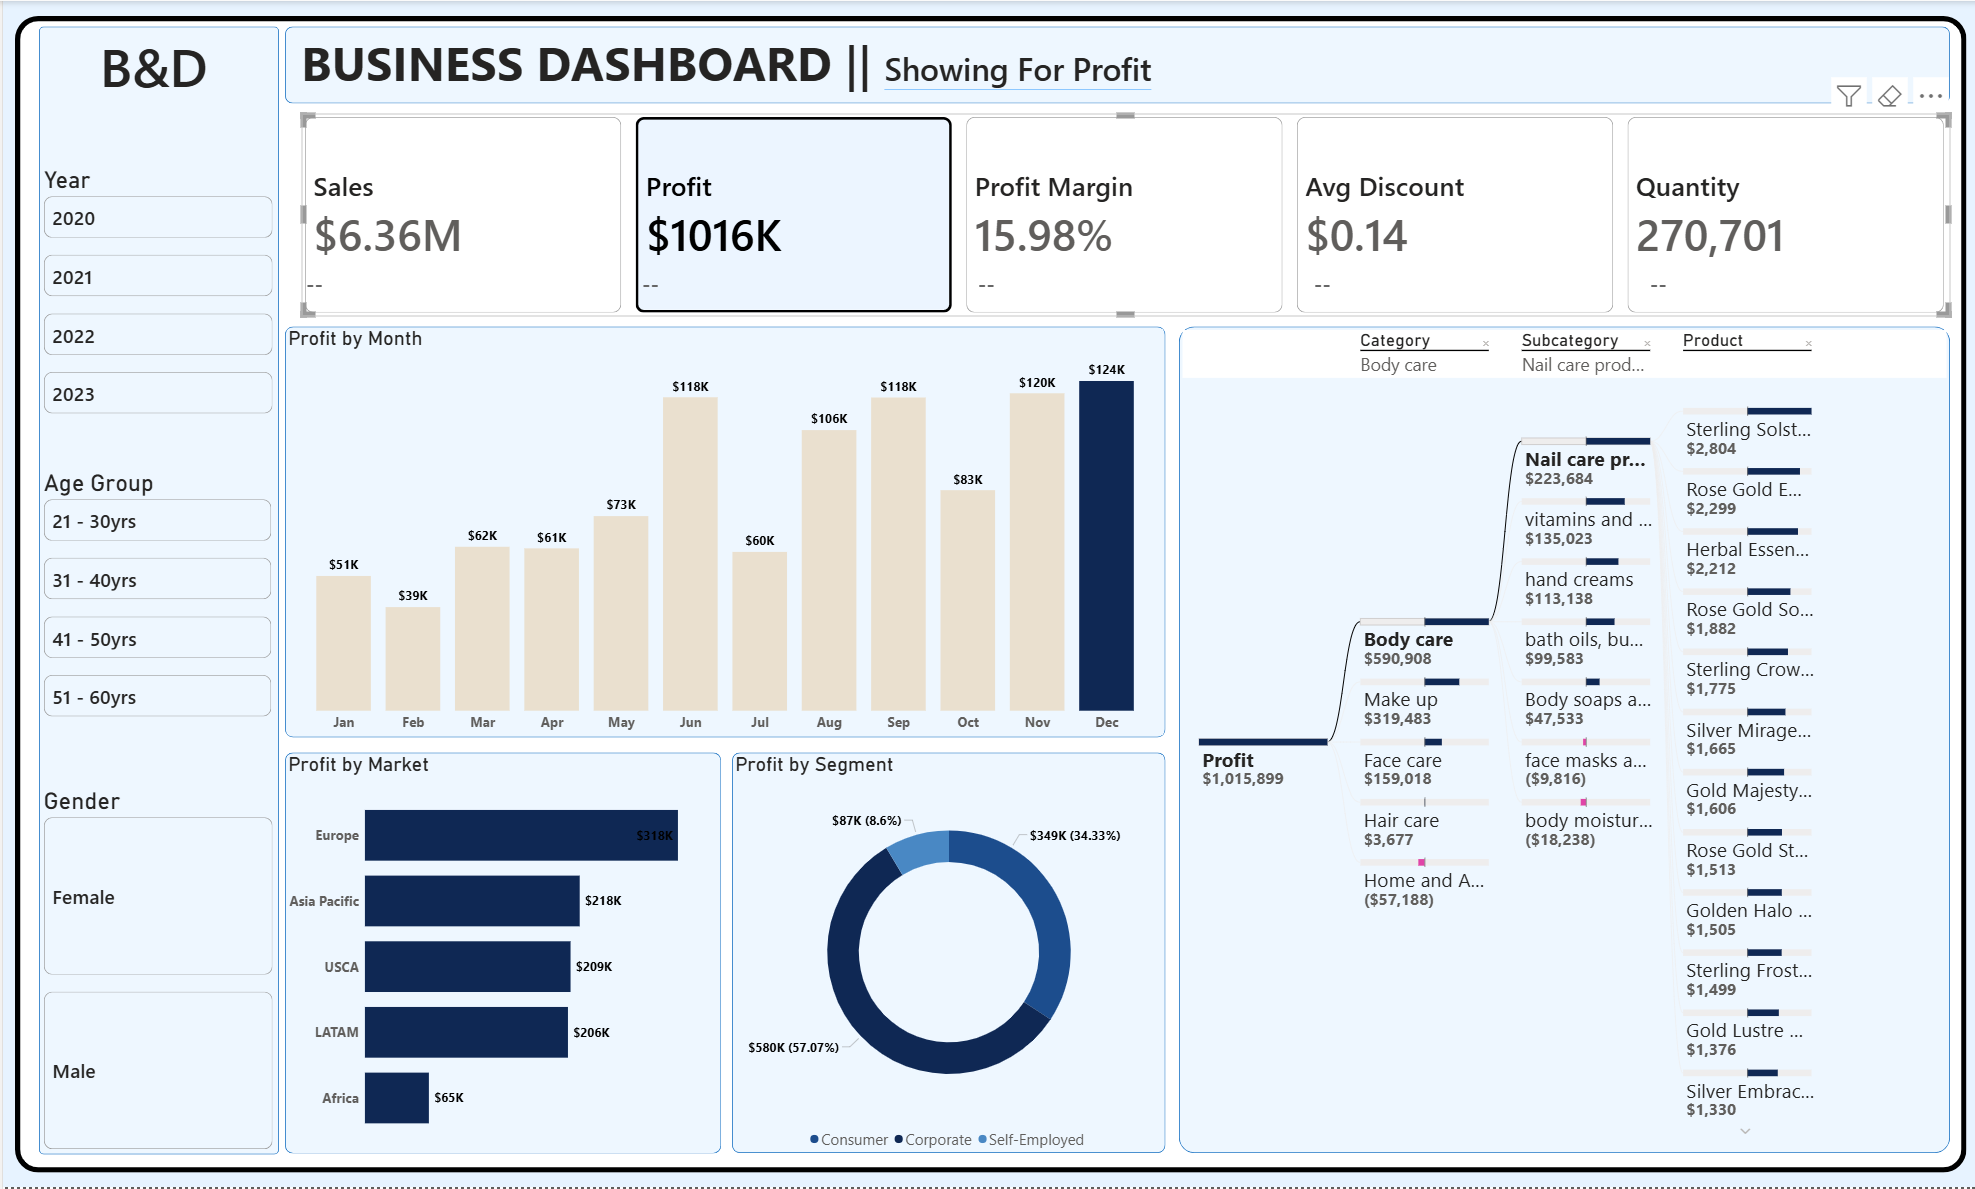

Layout of this report page (visuals, bound fields, positions):
{"tool":"powerbi","page":{"name":"Page 1","canvas":[3000,1800],"ordinal":0},"visuals":[{"type":"shape","box":[18.2,22.8,2962.8,1755.8],"z":0},{"type":"shape","box":[54.7,38.7,364.4,1712.6],"z":1},{"type":"shape","box":[428.5,39,2527.8,116.9],"z":2},{"type":"shape","box":[428.1,494.2,1336.8,624],"z":3},{"type":"shape","box":[1785.4,494.2,1170.6,1254.8],"z":4},{"type":"shape","box":[1106.8,1140.9,658.2,608],"z":5},{"type":"shape","box":[428.5,1141.9,662.2,608.9],"z":6},{"type":"advancedSlicerVisual","fields":{"Values":["Agg.Agg"]},"box":[453.2,170.8,2502.8,307.4],"z":9},{"type":"cardVisual","fields":{"Data":["Measure_Table.Sales","Measure_Table.Profit","Measure_Table.Profit Margin","Measure_Table.Avg Discount","Measure_Table.Quantity"]},"box":[419,271,2580.2,207.2],"z":10},{"type":"clusteredColumnChart","fields":{"Category":["Date Table.Month"],"Y":["Measure_Table.Sales"]},"box":[428.1,494.2,1336.8,624],"z":11},{"type":"clusteredBarChart","fields":{"Category":["Data.Market","Data.Region","Data.Country","Data.State","Data.City"],"Y":["Measure_Table.Sales"]},"box":[428.1,1140.9,662.7,610.3],"z":12},{"type":"donutChart","fields":{"Y":["Measure_Table.Sales"],"Series":["Data.Segment"]},"box":[1106.8,1140.9,658.2,610.3],"z":13},{"type":"decompositionTreeVisual","fields":{"Analyze":["Measure_Table.Sales"],"ExplainBy":["Data.Category","Data.Subcategory","Data.Product"]},"box":[1785.4,494.2,1170.6,1254.8],"z":14},{"type":"advancedSlicerVisual","fields":{"Values":["Data.Age Group"]},"box":[56.9,710.5,355.3,382.6],"z":15},{"type":"advancedSlicerVisual","fields":{"Values":["Data.Gender"]},"box":[56.9,1193.3,357.5,555.7],"z":17},{"type":"advancedSlicerVisual","fields":{"Values":["Date Table.Year"]},"box":[56.9,250.5,357.5,382.6],"z":18},{"type":"textbox","box":[428.1,38.7,1762.7,116.1],"z":19},{"type":"textbox","box":[56.9,38.7,343.9,116.1],"z":20}]}

Visuals, with their boxes in screenshot pixels (x1, y1, x2, y2), scaled from the page's 3000x1800 canvas onto the 1975x1189 screenshot:
shape: Rect(12, 15, 1962, 1175)
shape: Rect(36, 26, 276, 1157)
shape: Rect(282, 26, 1946, 103)
shape: Rect(282, 326, 1162, 739)
shape: Rect(1175, 326, 1946, 1155)
shape: Rect(729, 754, 1162, 1155)
shape: Rect(282, 754, 718, 1157)
advancedSlicerVisual - Agg.Agg: Rect(298, 113, 1946, 316)
cardVisual - Measure_Table.Sales x Measure_Table.Profit: Rect(276, 179, 1974, 316)
clusteredColumnChart - Date Table.Month x Measure_Table.Sales: Rect(282, 326, 1162, 739)
clusteredBarChart - Data.Market x Data.Region: Rect(282, 754, 718, 1157)
donutChart - Measure_Table.Sales x Data.Segment: Rect(729, 754, 1162, 1157)
decompositionTreeVisual - Measure_Table.Sales x Data.Category: Rect(1175, 326, 1946, 1155)
advancedSlicerVisual - Data.Age Group: Rect(37, 469, 271, 722)
advancedSlicerVisual - Data.Gender: Rect(37, 788, 273, 1155)
advancedSlicerVisual - Date Table.Year: Rect(37, 165, 273, 418)
textbox: Rect(282, 26, 1442, 102)
textbox: Rect(37, 26, 264, 102)
